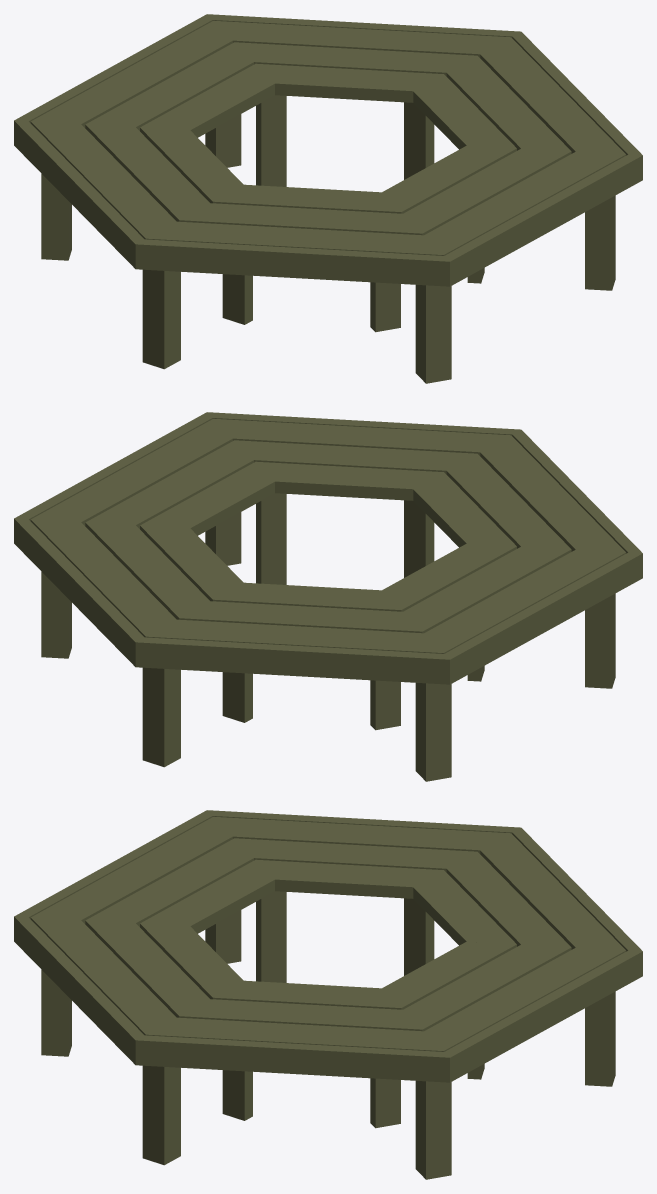
3 renders of one model, top to bottom at view 1: azimuth 30°, elevation 25°; view 2: azimuth 150°, elevation 25°; view 3: azimuth 270°, elevation 25°, orthographic.
Visible parts, largest first — view 1: mesh2_mesh2-geometry, mesh5_mesh5-geometry, mesh3_mesh3-geometry, mesh4_mesh4-geometry, mesh1_mesh1-geometry; view 2: mesh2_mesh2-geometry, mesh5_mesh5-geometry, mesh3_mesh3-geometry, mesh4_mesh4-geometry, mesh1_mesh1-geometry; view 3: mesh2_mesh2-geometry, mesh5_mesh5-geometry, mesh3_mesh3-geometry, mesh4_mesh4-geometry, mesh1_mesh1-geometry.
Part boxes in pixels (x1,y1,x2,y2): mesh2_mesh2-geometry: (30, 20, 626, 255); mesh5_mesh5-geometry: (14, 14, 642, 286); mesh3_mesh3-geometry: (85, 42, 571, 235); mesh4_mesh4-geometry: (140, 63, 516, 213); mesh1_mesh1-geometry: (41, 95, 615, 383); mesh2_mesh2-geometry: (30, 418, 626, 653); mesh5_mesh5-geometry: (14, 412, 642, 684); mesh3_mesh3-geometry: (85, 440, 571, 633); mesh4_mesh4-geometry: (140, 461, 516, 611); mesh1_mesh1-geometry: (41, 493, 615, 781); mesh2_mesh2-geometry: (30, 816, 626, 1051); mesh5_mesh5-geometry: (14, 810, 642, 1082); mesh3_mesh3-geometry: (85, 838, 571, 1031); mesh4_mesh4-geometry: (140, 859, 516, 1009); mesh1_mesh1-geometry: (41, 891, 615, 1179).
Bounding box in the file's own units: 0.6721 × 0.1662 × 0.7215.
